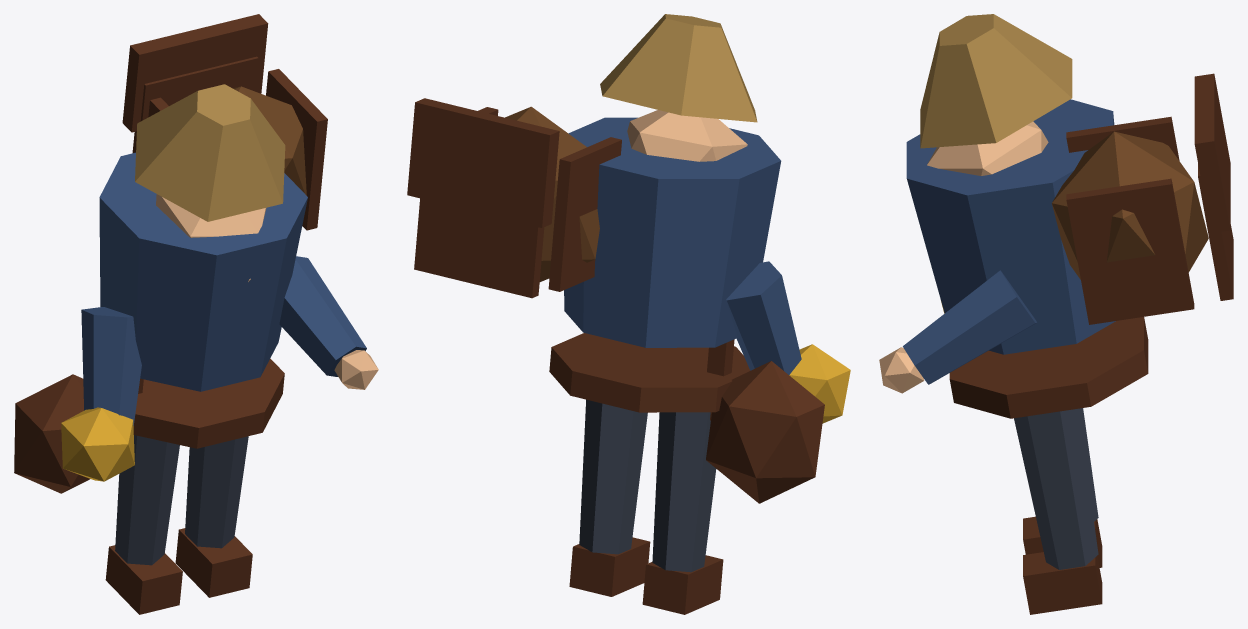
File: npcpose_merchant_idle_04.glb
3 views of the same model, side by side, from view 1: azimuth 30°, elevation 25°; view 2: azimuth 150°, elevation 25°; view 3: azimuth 270°, elevation 25° (orthographic). The views are drawn at different scales.
Visible parts, largest first — view 1: npcpose; view 2: npcpose; view 3: npcpose.
Part boxes in pixels (x1,y1,x2,y2): npcpose: (14, 14, 378, 614); npcpose: (407, 14, 850, 614); npcpose: (879, 14, 1233, 614).
Bounding box in the file's own units: 1.2 × 1.87 × 1.06.
